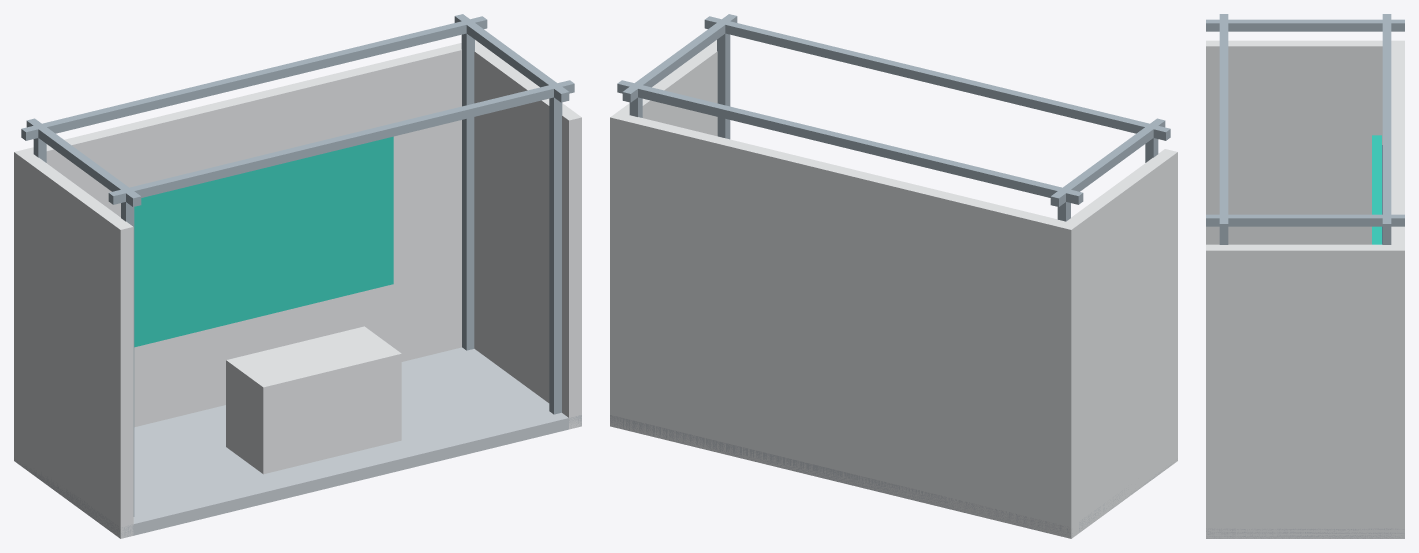
The picture shows the model from 3 angles, left to right: view 1: azimuth 30°, elevation 25°; view 2: azimuth 150°, elevation 25°; view 3: azimuth 270°, elevation 25°; orthographic projection. The views are drawn at different scales.
Parts seen in each view (by area): view 1: Exhibition Booth Concept; view 2: Exhibition Booth Concept; view 3: Exhibition Booth Concept.
Part boxes in pixels (x1=…): Exhibition Booth Concept: x1=14, y1=14, x2=581, y2=538; Exhibition Booth Concept: x1=610, y1=14, x2=1177, y2=538; Exhibition Booth Concept: x1=1206, y1=14, x2=1404, y2=538.
Size of the model in its own units: 5 by 3.49 by 2.
